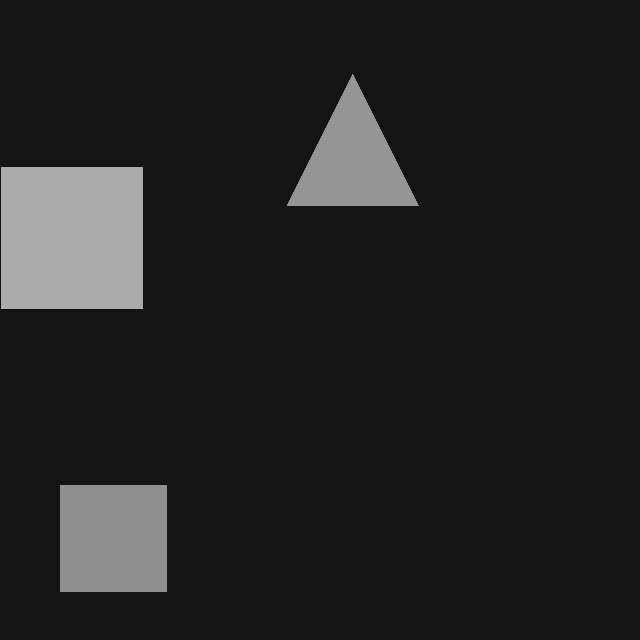square: (1, 167, 142, 308), (60, 485, 166, 591)
triangle: (287, 74, 418, 205)
